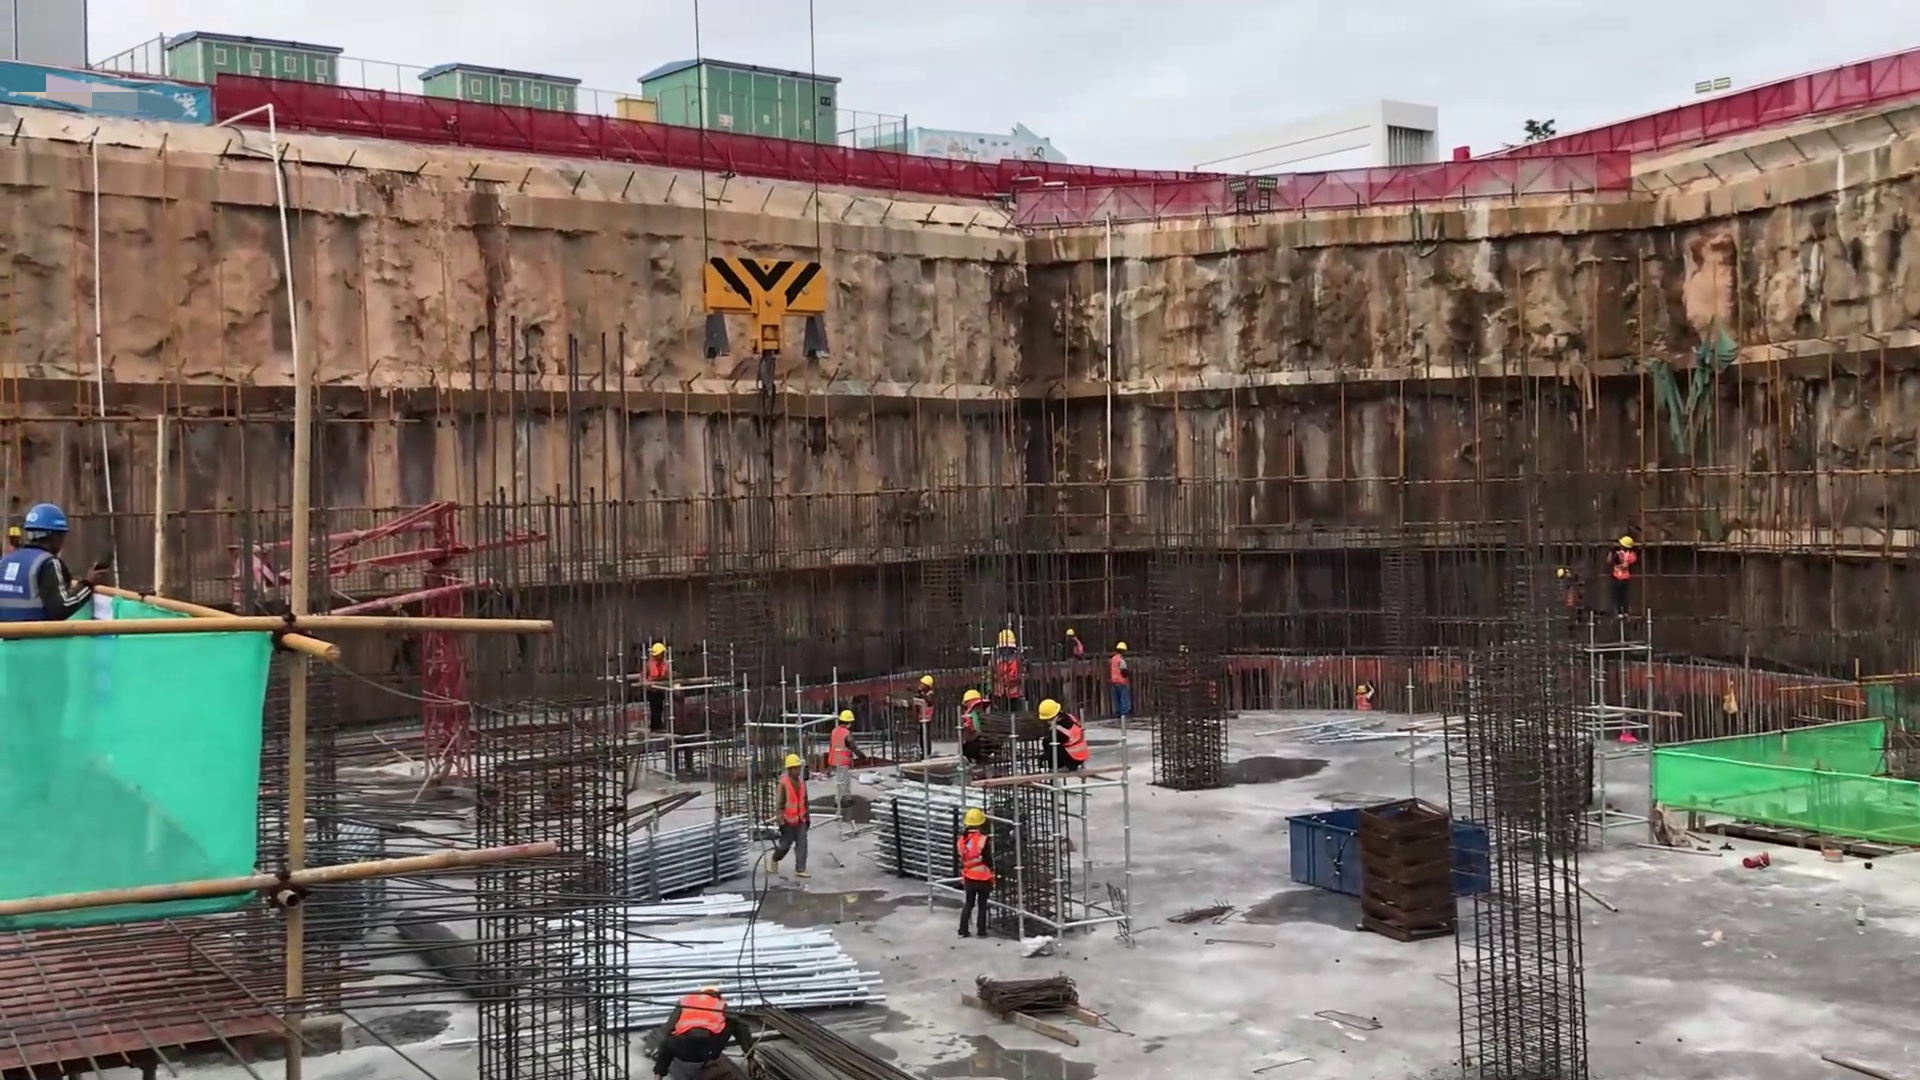ebox: (612, 95, 661, 127)
fence: (243, 75, 492, 146)
helmet: (19, 502, 74, 538), (1039, 697, 1062, 726), (994, 628, 1022, 649), (962, 808, 988, 829), (961, 691, 986, 707), (782, 754, 804, 771), (651, 644, 667, 662), (919, 672, 937, 688), (837, 710, 858, 723), (1619, 535, 1635, 549), (1115, 640, 1127, 652)
hook: (701, 254, 832, 404)
hopper: (1285, 796, 1499, 901)
person: (1, 503, 124, 620), (651, 983, 756, 1078), (951, 803, 995, 945), (768, 753, 817, 873), (828, 706, 870, 822), (1037, 694, 1095, 773), (993, 628, 1039, 715), (1605, 534, 1640, 616), (958, 688, 994, 766), (646, 643, 672, 736), (1110, 638, 1137, 728), (916, 670, 935, 761), (1063, 627, 1086, 666), (1353, 682, 1380, 712)
rebar: (753, 1001, 892, 1070), (969, 969, 1085, 1021)
scaffold: (610, 896, 877, 994), (630, 812, 754, 904), (877, 790, 962, 883)
slogan: (1, 63, 228, 134)
vest: (3, 550, 74, 618), (960, 831, 994, 887), (777, 776, 811, 827), (1056, 713, 1088, 766), (993, 650, 1025, 700), (827, 725, 853, 770), (1607, 549, 1638, 587), (1111, 651, 1133, 694), (918, 688, 938, 728), (642, 661, 671, 678)
